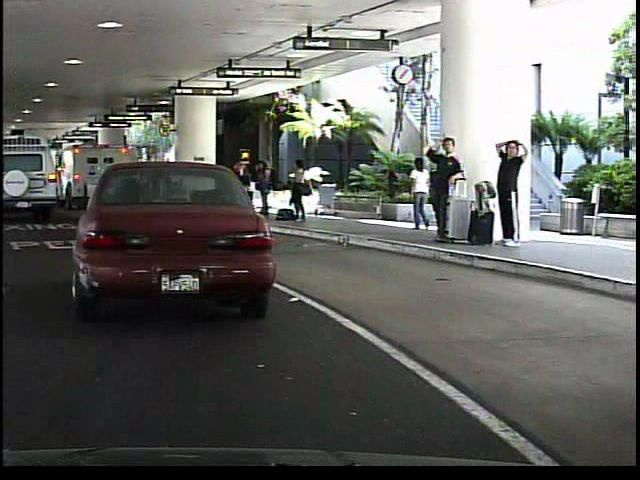person: (420, 134, 465, 245), (493, 129, 530, 246), (407, 154, 431, 235), (286, 156, 312, 223)
